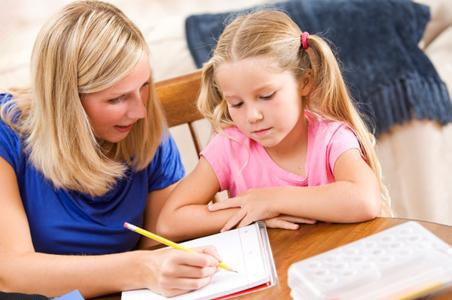person: (3, 2, 226, 297)
